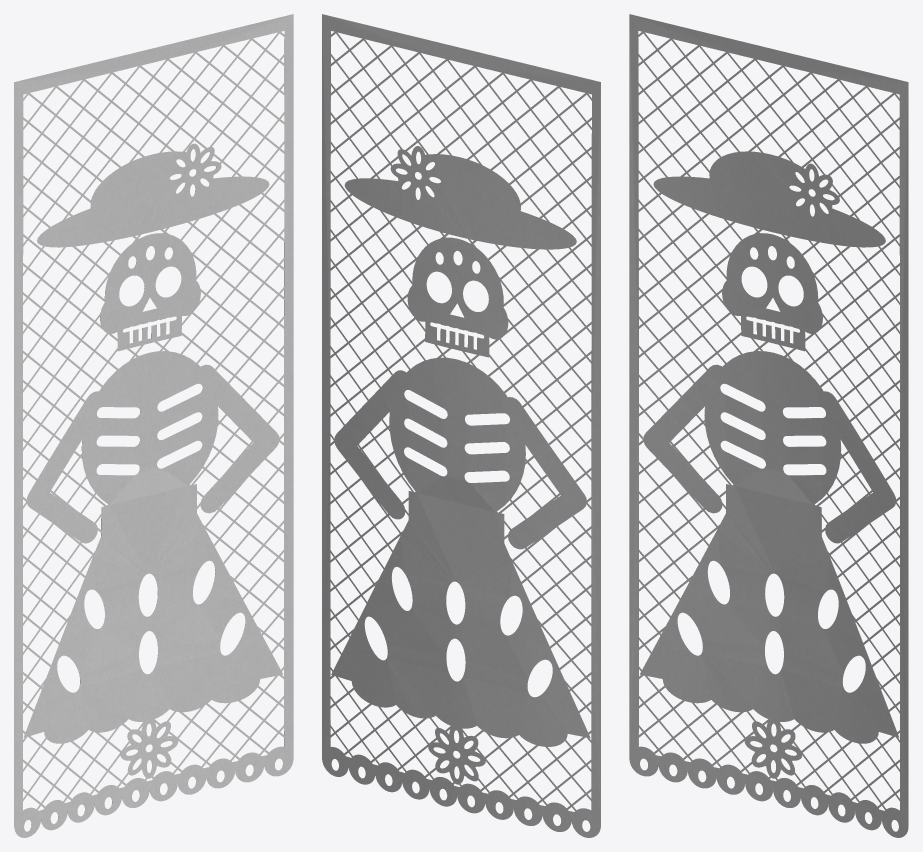
The model's file is papel_8.gltf.
The picture shows the model from 3 angles, left to right: view 1: azimuth 30°, elevation 25°; view 2: azimuth 150°, elevation 25°; view 3: azimuth 330°, elevation 25°; orthographic projection.
Visible parts, largest first — view 1: papel_8; view 2: papel_8; view 3: papel_8.
Boxes of the visible parts, left/top/right/bottom form: papel_8: left=14, top=14, right=293, bottom=837; papel_8: left=322, top=14, right=600, bottom=837; papel_8: left=629, top=14, right=908, bottom=837.
Bounding box in the file's own units: 0.25 × 0.65 × 0.00913.
1 material, 1 textured.
